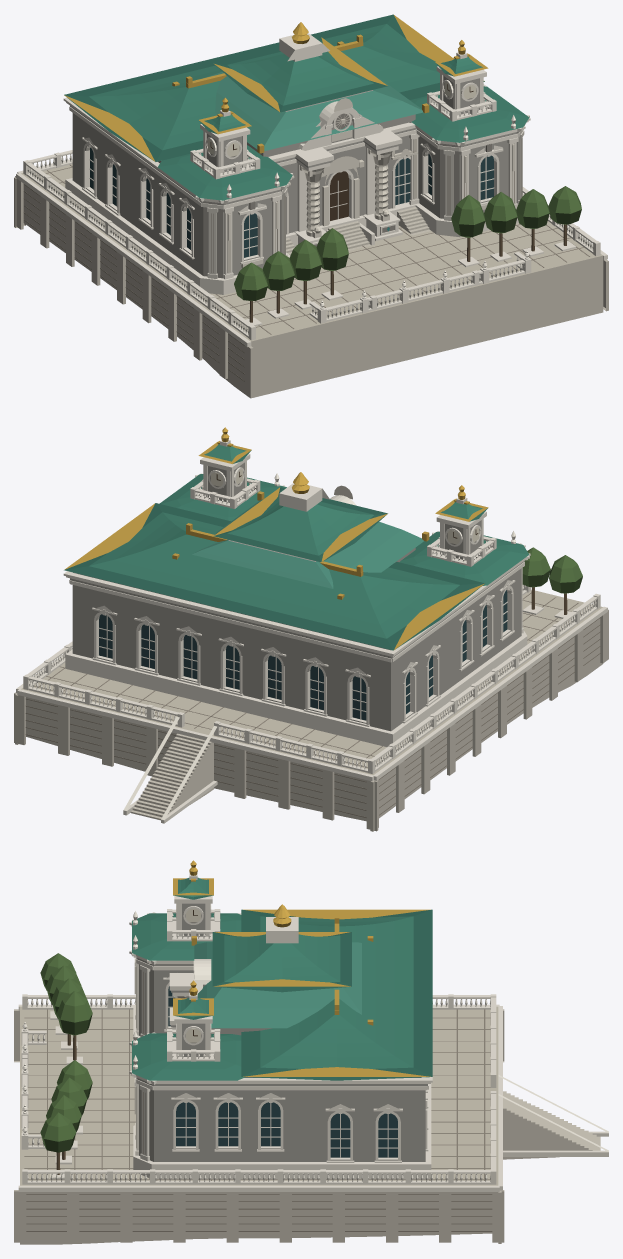
The picture shows the model from 3 angles, top to bottom: view 1: azimuth 30°, elevation 25°; view 2: azimuth 150°, elevation 25°; view 3: azimuth 270°, elevation 25°; orthographic projection. The views are drawn at different scales.
Parts seen in each view (by area): view 1: XY09 远瀛观 Yuanyingguan; view 2: XY09 远瀛观 Yuanyingguan; view 3: XY09 远瀛观 Yuanyingguan.
Part boxes in pixels (box(x1,y1,x2,y2)): XY09 远瀛观 Yuanyingguan: box(14, 14, 608, 398); XY09 远瀛观 Yuanyingguan: box(14, 427, 608, 831); XY09 远瀛观 Yuanyingguan: box(14, 860, 608, 1244).
Size of the model in its own units: 31.9 by 20.28 by 43.55.
